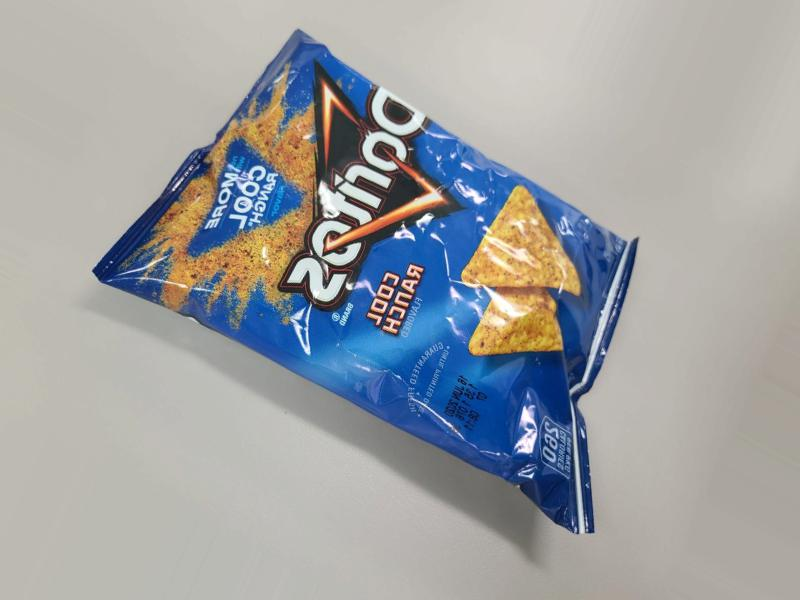doritos: (154, 0, 604, 582)
